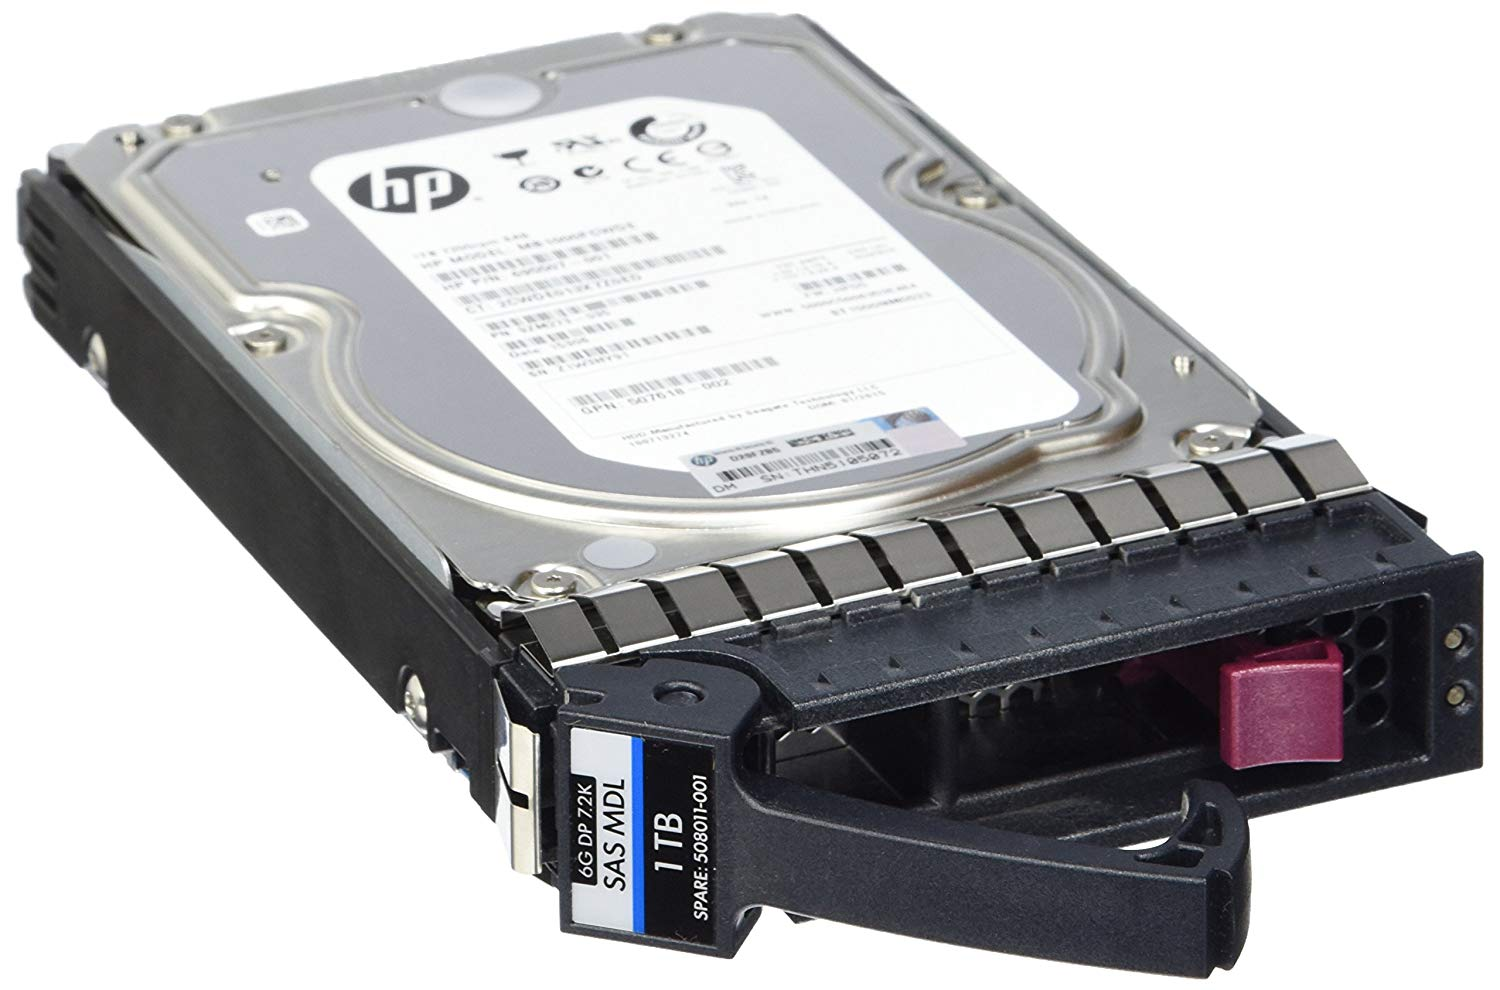2.5" Hard Drive: (15, 3, 1488, 972)
SAS Hard Drive: (541, 699, 750, 979)
